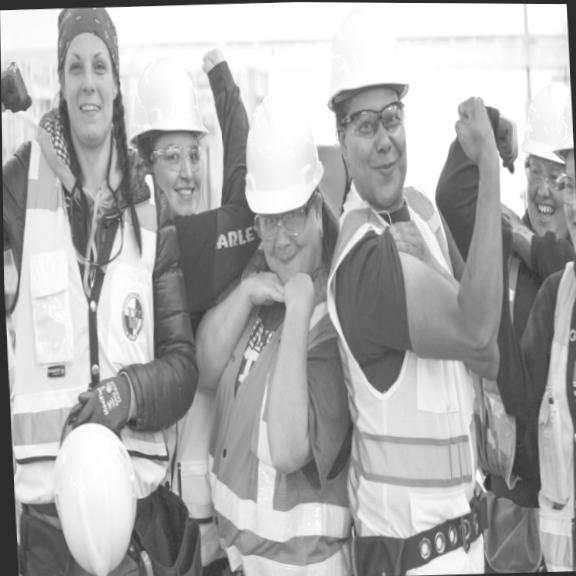safety_vest: (329, 185, 512, 572), (2, 112, 186, 495), (196, 235, 358, 576), (512, 222, 576, 572)
